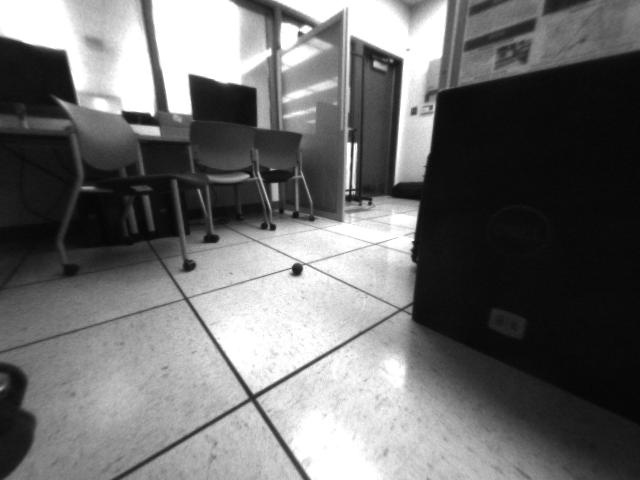dogtoy: (286, 257, 309, 280)
